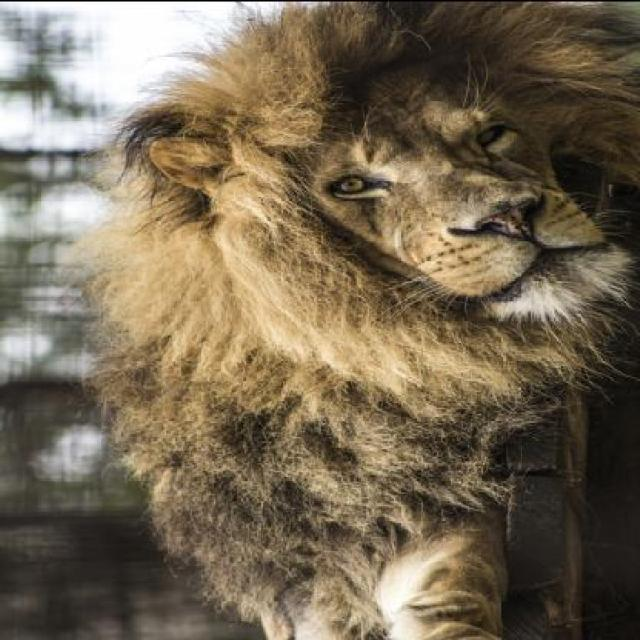Lion: (44, 9, 638, 638)
